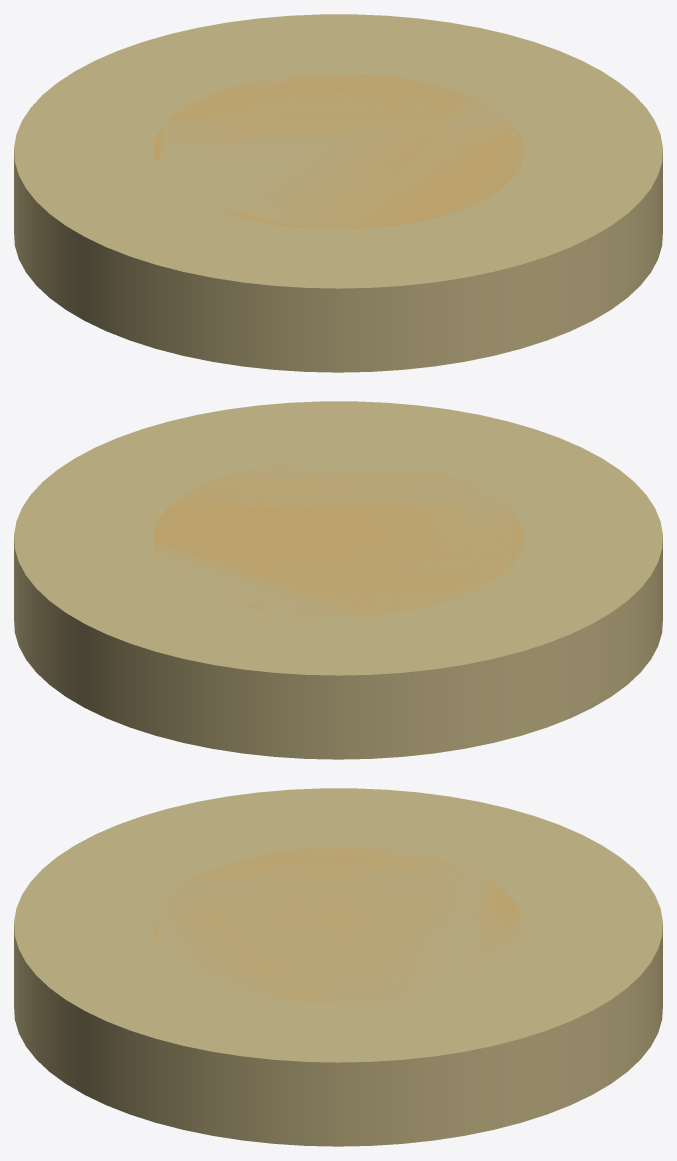
The model's file is step_03.glb.
3 views of the same model, one above another, from view 1: azimuth 30°, elevation 25°; view 2: azimuth 150°, elevation 25°; view 3: azimuth 270°, elevation 25° (orthographic).
Parts seen in each view (by area): view 1: part__flanged bush, overlay; view 2: part__flanged bush, overlay; view 3: part__flanged bush, overlay.
Boxes of the visible parts, x1=… form: part__flanged bush: x1=14, y1=14, x2=662, y2=372; overlay: x1=153, y1=73, x2=523, y2=229; part__flanged bush: x1=14, y1=401, x2=662, y2=759; overlay: x1=153, y1=460, x2=523, y2=616; part__flanged bush: x1=14, y1=788, x2=662, y2=1146; overlay: x1=153, y1=847, x2=523, y2=1003.
Size of the model in its own units: 69.96 by 10 by 69.98.
